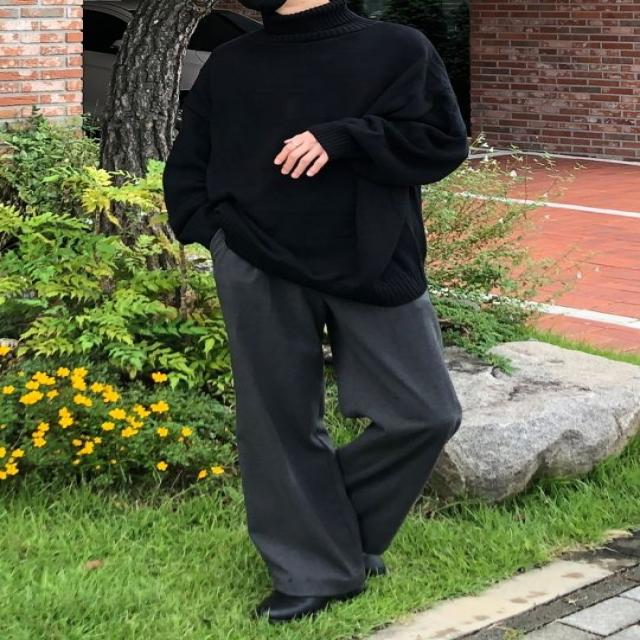hoodies: (162, 2, 468, 304)
slacks: (211, 227, 463, 610)
